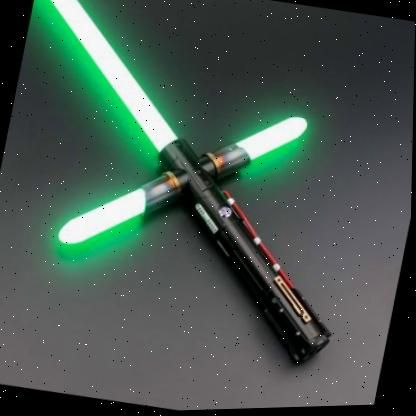lightsaber: (0, 0, 396, 387)
